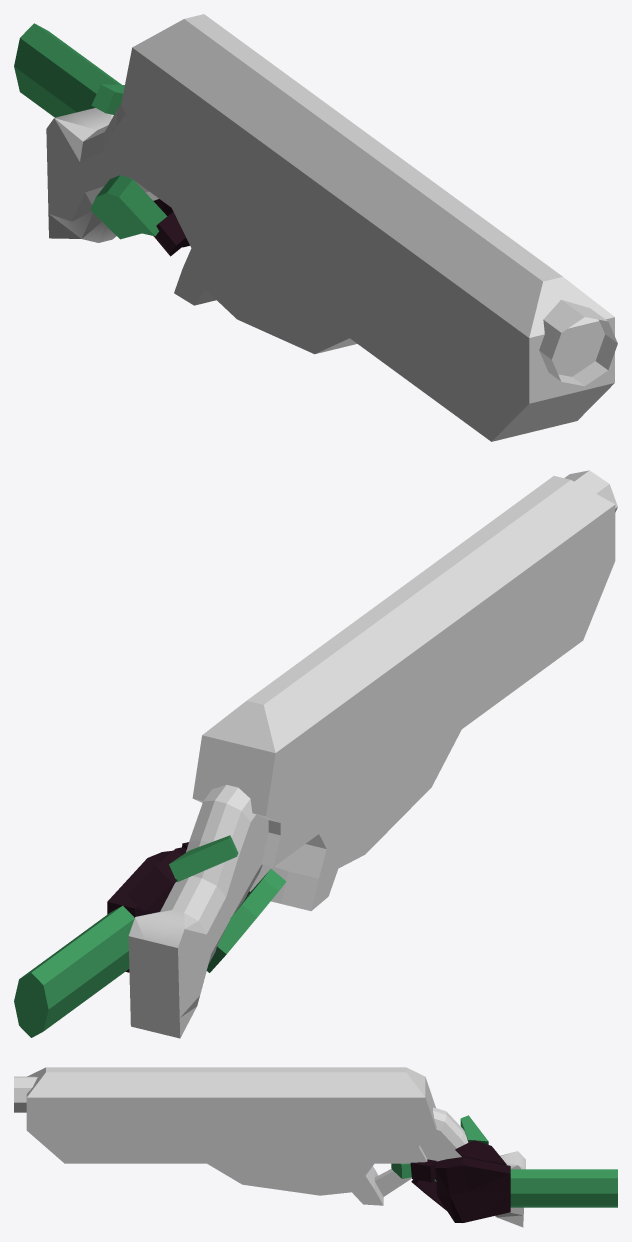
File: reaper_model.fbx
3 views of the same model, one above another, from view 1: azimuth 30°, elevation 25°; view 2: azimuth 150°, elevation 25°; view 3: azimuth 270°, elevation 25° (orthographic). The views are drawn at different scales.
Visible parts, largest first — view 1: Cylinder, hand; view 2: Cylinder, hand; view 3: Cylinder, hand.
Part boxes in pixels (x1,y1,x2,y2): Cylinder: (46, 14, 617, 441); hand: (14, 23, 189, 256); Cylinder: (128, 470, 617, 1038); hand: (14, 835, 286, 1037); Cylinder: (14, 1067, 525, 1227); hand: (391, 1115, 617, 1222).
Size of the model in its own units: 12.7 by 28.34 by 103.
